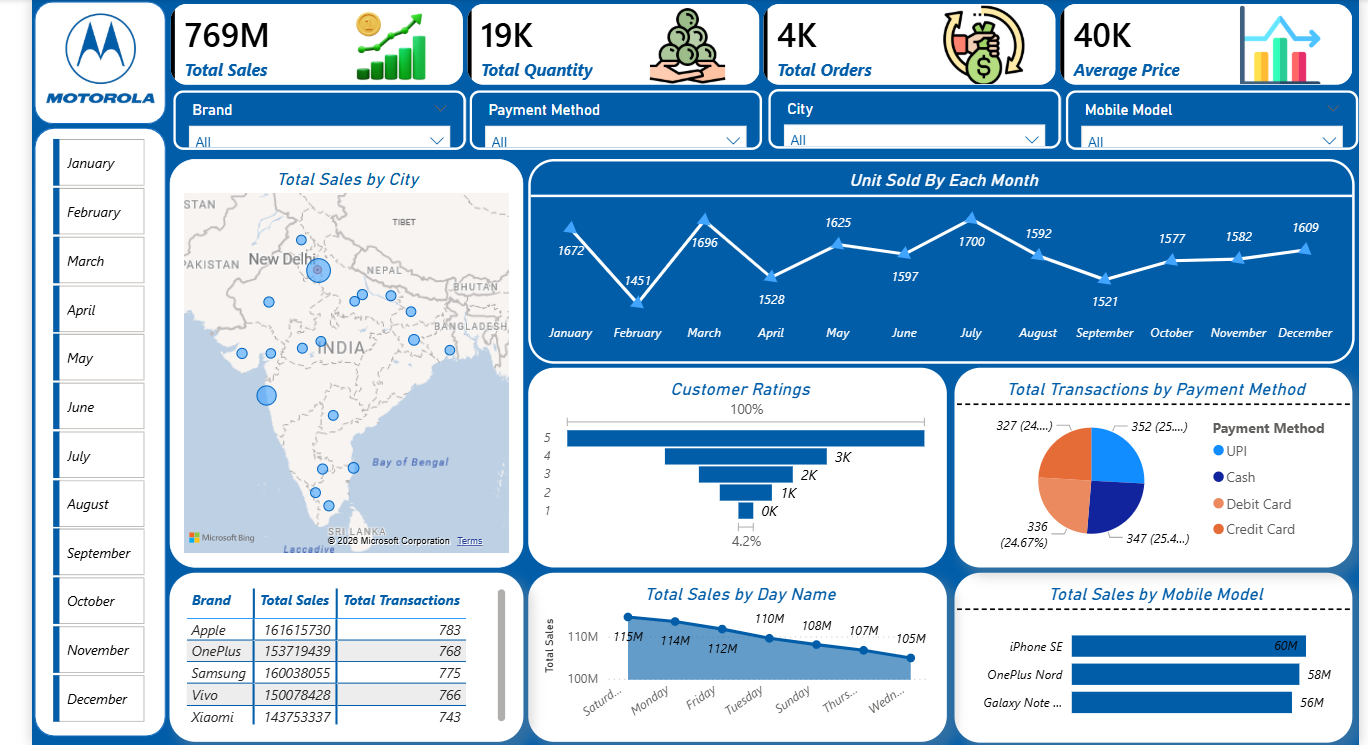

What the dashboard file says about the page in this screenshot:
{"tool":"powerbi","page":{"name":"Dashboard","canvas":[1280,720],"ordinal":1},"visuals":[{"type":"shape","box":[2.4,2.4,126.7,118.2],"z":0},{"type":"image","box":[12.1,4.8,107.4,105],"z":1000},{"type":"shape","box":[2.4,124.3,126.7,587.5],"z":2000},{"type":"advancedSlicerVisual","fields":{"Values":["Project_Data_30.Date.Variation.Date Hierarchy.Month"]},"box":[15.7,130.3,98.9,576.7],"z":3000},{"type":"cardVisual","fields":{"Data":["Project_Data_30.Total Sales","Project_Data_30.Total Quantity","Project_Data_30.Total Transactions","Project_Data_30.Average Unit Price"]},"box":[129.1,0,1150.9,88.1],"z":4000},{"type":"map","fields":{"Category":["Project_Data_30.City"],"Size":["Project_Data_30.Total Sales"]},"box":[132.7,154.4,341.4,394.5],"z":5000},{"type":"lineChart","title":"Unit Sold By Each Month","fields":{"Y":["Sum(Project_Data_30.Units Sold)"],"Category":["Project_Data_30.Date.Variation.Date Hierarchy.Month","Project_Data_30.Date.Variation.Date Hierarchy.Day"]},"box":[479,154.4,797.5,197.9],"z":6000},{"type":"clusteredBarChart","fields":{"Category":["Project_Data_30.Mobile Model"],"Y":["Project_Data_30.Total Sales"]},"box":[890.4,553.8,383.6,164.1],"z":7000},{"type":"pieChart","fields":{"Category":["Project_Data_30.Payment Method"],"Y":["Project_Data_30.Total Transactions"]},"box":[890.4,355.9,383.6,193],"z":8000},{"type":"funnel","title":" Customer Ratings","fields":{"Category":["Project_Data_30.Customer Ratings"],"Y":["Sum(Project_Data_30.Customer Ratings)"]},"box":[479,355.9,404.2,193],"z":9000},{"type":"areaChart","fields":{"Category":["Project_Data_30.Day Name"],"Y":["Project_Data_30.Total Sales"]},"box":[479,553.8,404.2,162.9],"z":10000},{"type":"tableEx","fields":{"Values":["Project_Data_30.Brand","Project_Data_30.Total Sales","Project_Data_30.Total Transactions"]},"box":[132.7,553.8,341.4,162.9],"z":11000},{"type":"slicer","fields":{"Values":["Project_Data_30.Brand"]},"box":[136.3,88.1,282.3,57.9],"z":12000},{"type":"slicer","fields":{"Values":["Project_Data_30.Payment Method"]},"box":[422.3,88.1,282.3,57.9],"z":13000},{"type":"slicer","fields":{"Values":["Project_Data_30.City"]},"box":[710.6,86.9,282.3,57.9],"z":14000},{"type":"slicer","fields":{"Values":["Project_Data_30.Mobile Model"]},"box":[997.7,88.1,282.3,57.9],"z":15000}]}

Visuals, with their boxes in screenshot pixels (x1, y1, x2, y2):
shape: {"x1": 42, "y1": 2, "x2": 171, "y2": 123}
image: {"x1": 52, "y1": 5, "x2": 161, "y2": 112}
shape: {"x1": 42, "y1": 127, "x2": 171, "y2": 726}
advancedSlicerVisual - Project_Data_30.Date.Variation.Date Hierarchy.Month: {"x1": 55, "y1": 133, "x2": 156, "y2": 721}
cardVisual - Project_Data_30.Total Sales x Project_Data_30.Total Quantity: {"x1": 171, "y1": 0, "x2": 1345, "y2": 90}
map - Project_Data_30.City x Project_Data_30.Total Sales: {"x1": 175, "y1": 157, "x2": 523, "y2": 560}
"Unit Sold By Each Month" lineChart: {"x1": 528, "y1": 157, "x2": 1341, "y2": 359}
clusteredBarChart - Project_Data_30.Mobile Model x Project_Data_30.Total Sales: {"x1": 947, "y1": 565, "x2": 1338, "y2": 732}
pieChart - Project_Data_30.Payment Method x Project_Data_30.Total Transactions: {"x1": 947, "y1": 363, "x2": 1338, "y2": 560}
" Customer Ratings" funnel: {"x1": 528, "y1": 363, "x2": 940, "y2": 560}
areaChart - Project_Data_30.Day Name x Project_Data_30.Total Sales: {"x1": 528, "y1": 565, "x2": 940, "y2": 731}
tableEx - Project_Data_30.Brand x Project_Data_30.Total Sales: {"x1": 175, "y1": 565, "x2": 523, "y2": 731}
slicer - Project_Data_30.Brand: {"x1": 178, "y1": 90, "x2": 466, "y2": 149}
slicer - Project_Data_30.Payment Method: {"x1": 470, "y1": 90, "x2": 758, "y2": 149}
slicer - Project_Data_30.City: {"x1": 764, "y1": 89, "x2": 1052, "y2": 148}
slicer - Project_Data_30.Mobile Model: {"x1": 1057, "y1": 90, "x2": 1345, "y2": 149}
